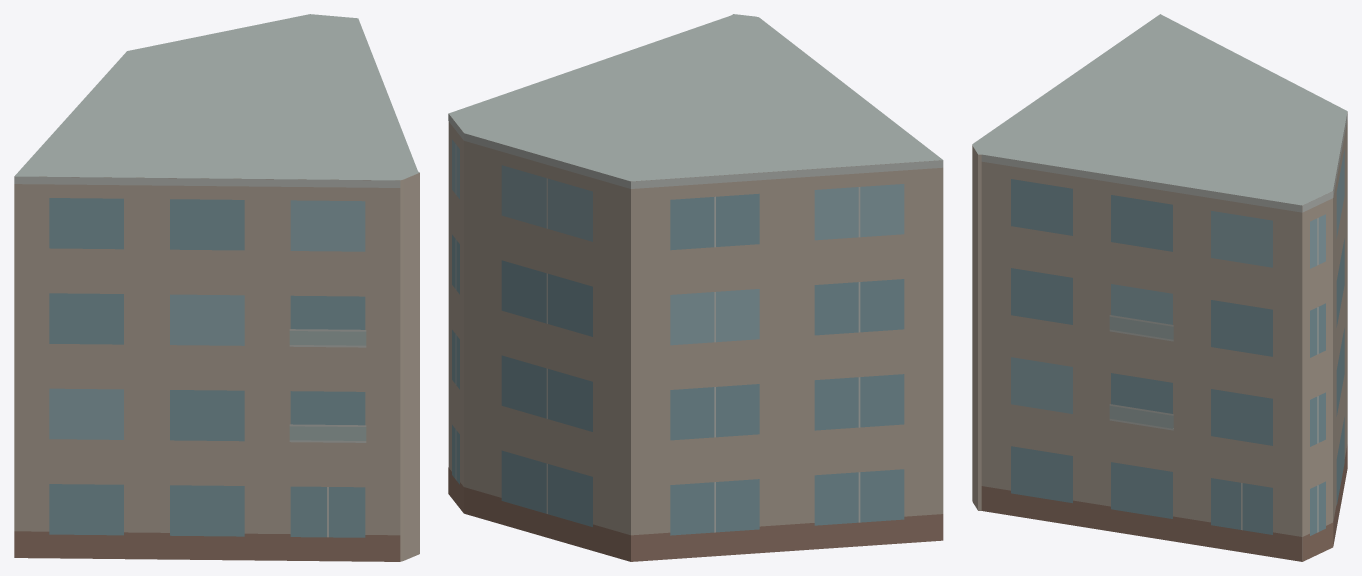
Rendered from survey-upis-32492543.glb.
The picture shows the model from 3 angles, left to right: view 1: azimuth 30°, elevation 25°; view 2: azimuth 150°, elevation 25°; view 3: azimuth 270°, elevation 25°; orthographic projection. The views are drawn at different scales.
Visible parts, largest first — view 1: survey-upis-32492543.tmp; view 2: survey-upis-32492543.tmp; view 3: survey-upis-32492543.tmp.
Part boxes in pixels (x1,y1,x2,y2): survey-upis-32492543.tmp: (14,14,419,561); survey-upis-32492543.tmp: (448,14,943,561); survey-upis-32492543.tmp: (972,14,1347,561).
Size of the model in its own units: 14.07 by 12.2 by 11.66.
